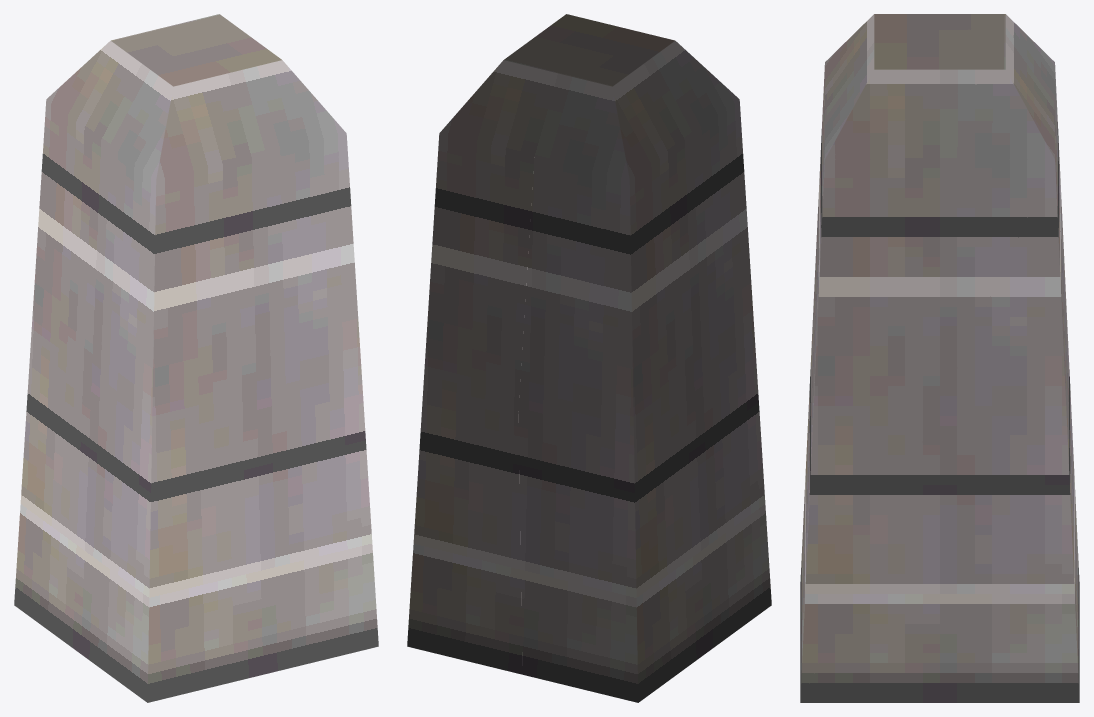
Rendered from PbollardZ.obj.
The picture shows the model from 3 angles, left to right: view 1: azimuth 30°, elevation 25°; view 2: azimuth 150°, elevation 25°; view 3: azimuth 270°, elevation 25°; orthographic projection. The views are drawn at different scales.
Size of the model in its own units: 454 by 1080 by 454.
1 material, 1 textured.
